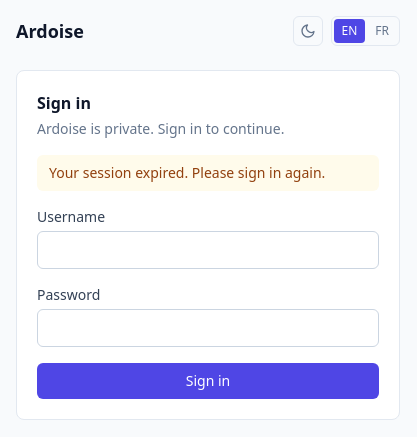
Test case: Login — interrupted session › drops the expiry notice once a real error replaces it
Type "aymen" into the field labelled "Username" at (208, 250), box top-left (37, 231), bottom-right (379, 269)
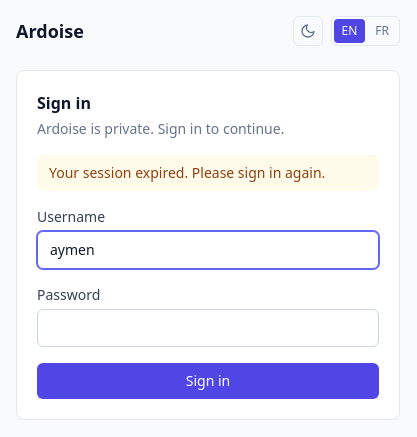
Type "wrong" into the password field labelled "Password" at (208, 328), box top-left (37, 309), bottom-right (379, 347)
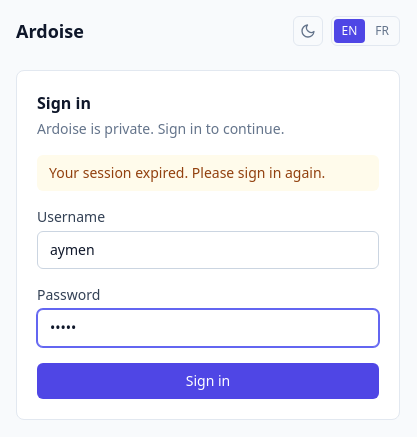
Click the button "Sign in" at (208, 381), box top-left (37, 363), bottom-right (379, 399)
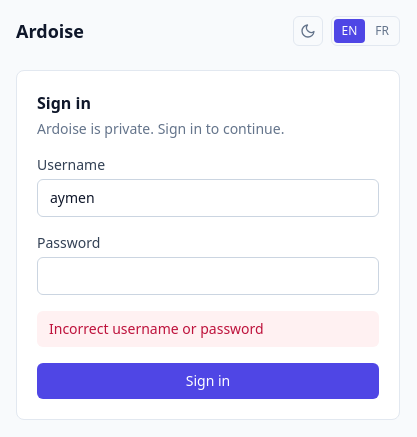
Check: the message "Incorrect username or password" is shown, box top-left (37, 311), bottom-right (379, 347)
